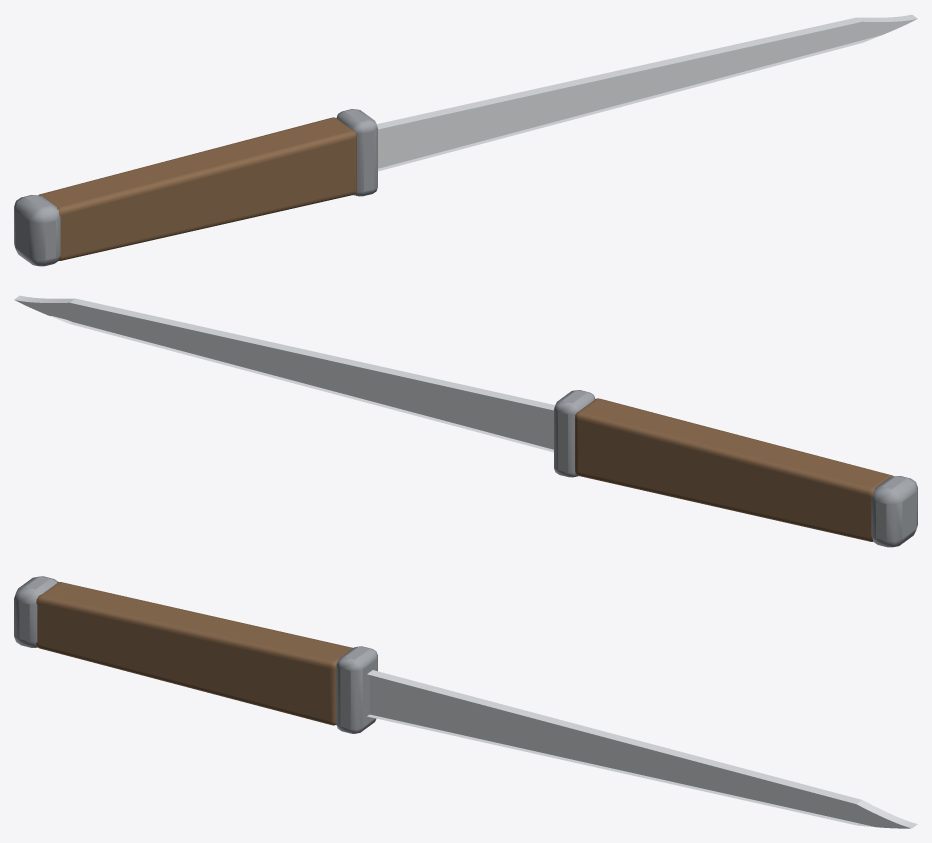
The model's file is knife_stiletto.glb.
3 views of the same model, one above another, from view 1: azimuth 30°, elevation 25°; view 2: azimuth 150°, elevation 25°; view 3: azimuth 330°, elevation 25° (orthographic).
Parts seen in each view (by area): view 1: lod_detail_horn, lod_skin_blade, lod_metal_steel; view 2: lod_detail_horn, lod_skin_blade, lod_metal_steel; view 3: lod_detail_horn, lod_skin_blade, lod_metal_steel.
Part boxes in pixels (x1=…): lod_detail_horn: x1=38, y1=117, x2=356, y2=260; lod_skin_blade: x1=377, y1=14, x2=917, y2=171; lod_metal_steel: x1=14, y1=109, x2=377, y2=266; lod_detail_horn: x1=575, y1=398, x2=893, y2=541; lod_skin_blade: x1=14, y1=295, x2=554, y2=452; lod_metal_steel: x1=554, y1=390, x2=917, y2=547; lod_detail_horn: x1=36, y1=582, x2=352, y2=725; lod_skin_blade: x1=367, y1=670, x2=917, y2=828; lod_metal_steel: x1=14, y1=576, x2=377, y2=733.
Bounding box in the file's own units: 0.352 × 0.028 × 0.018.
